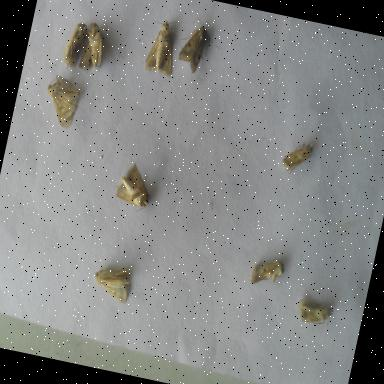abw: (136, 4, 188, 82), (35, 65, 89, 138), (170, 9, 218, 86), (106, 152, 160, 218), (86, 252, 138, 310), (74, 16, 116, 80), (56, 16, 94, 78), (276, 131, 322, 181), (242, 250, 290, 296), (290, 290, 338, 333)
